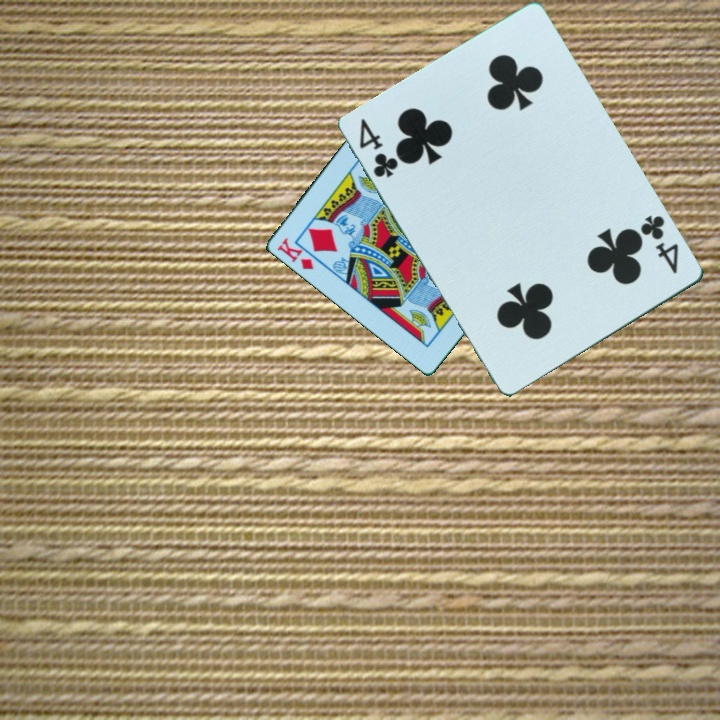4c: (637, 211, 683, 277), (356, 115, 402, 181)
Kd: (273, 234, 316, 273)
